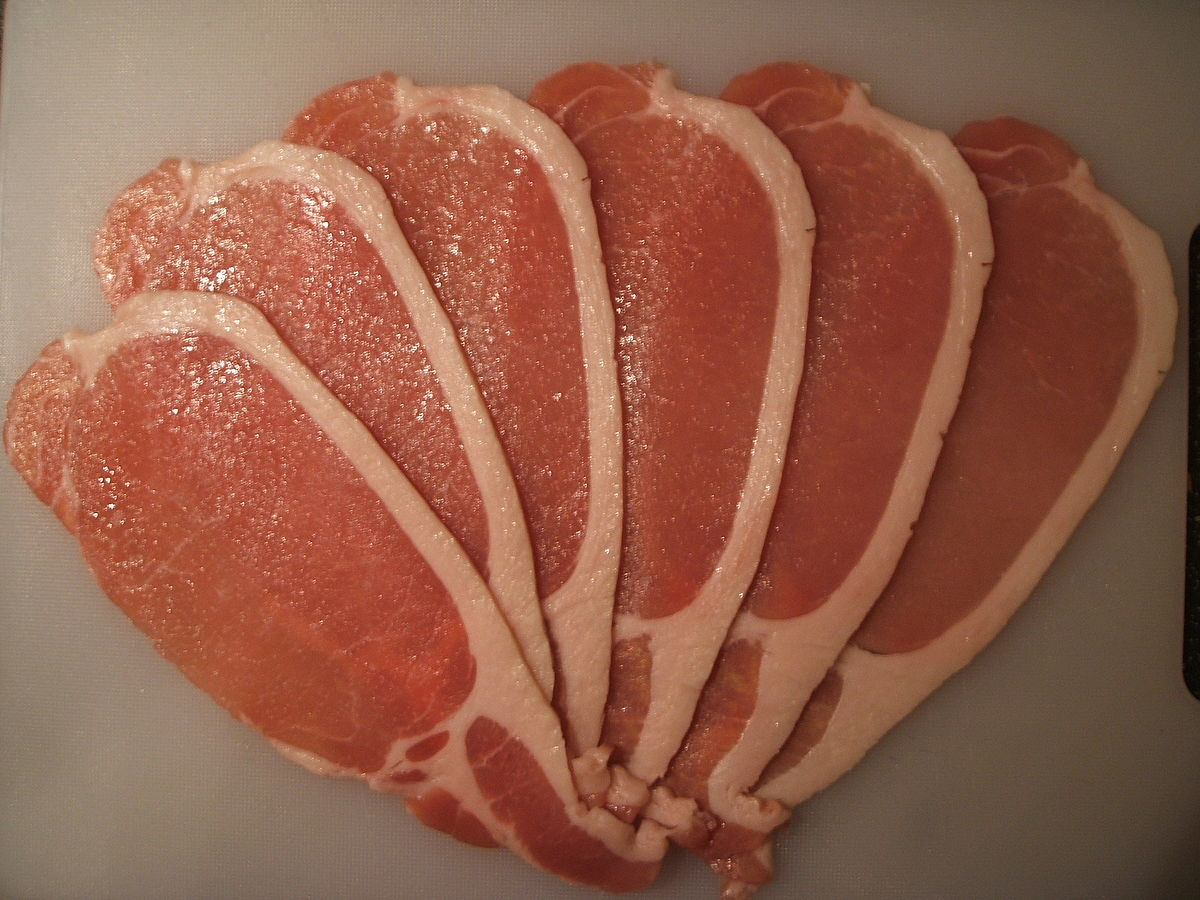bacon: (43, 79, 1158, 855)
